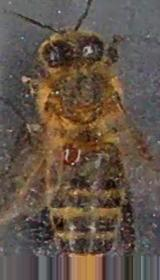varroa_mite: (52, 132, 85, 171)
